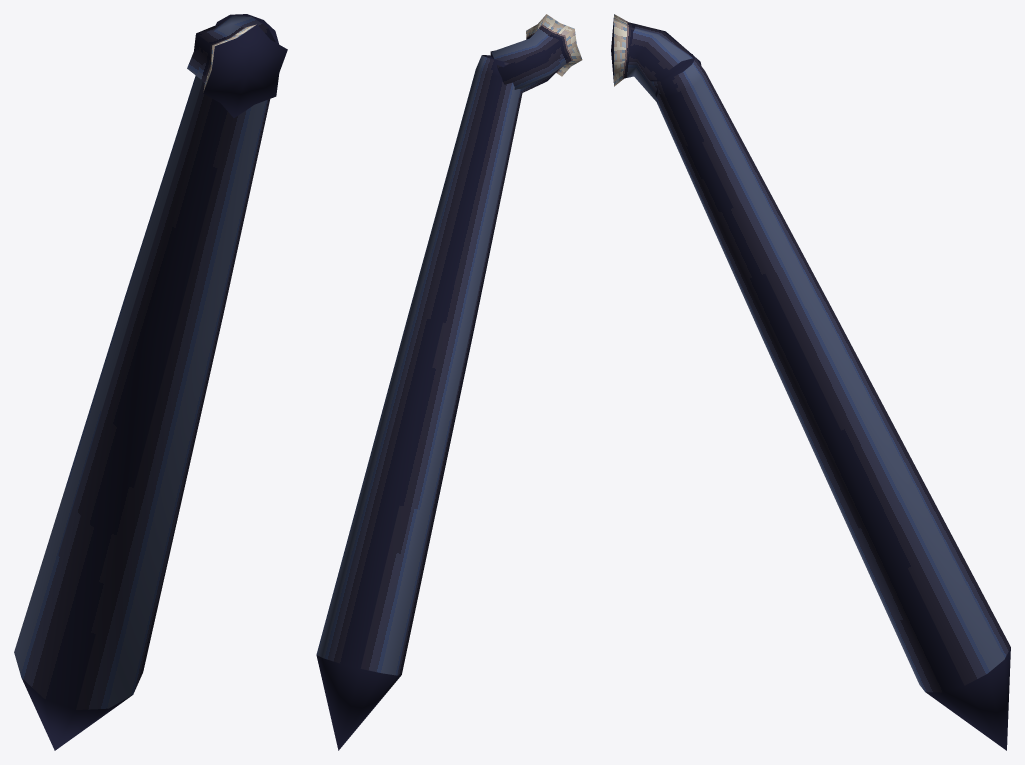
File: blade_hand.glb
The picture shows the model from 3 angles, left to right: view 1: azimuth 30°, elevation 25°; view 2: azimuth 150°, elevation 25°; view 3: azimuth 270°, elevation 25°; orthographic projection. The views are drawn at different scales.
Parts seen in each view (by area): view 1: arm_forearm, arm_cuff; view 2: arm_forearm, arm_cuff; view 3: arm_forearm, arm_cuff.
Boxes of the visible parts, <box> form: arm_forearm: <box>14,14,278,750</box>; arm_cuff: <box>187,16,287,117</box>; arm_forearm: <box>316,55,522,750</box>; arm_cuff: <box>490,14,582,92</box>; arm_forearm: <box>650,54,1010,750</box>; arm_cuff: <box>611,14,701,102</box>.
Size of the model in its own units: 0.266 by 1.46 by 0.7448.
Materials: 1 (1 with a texture image).
